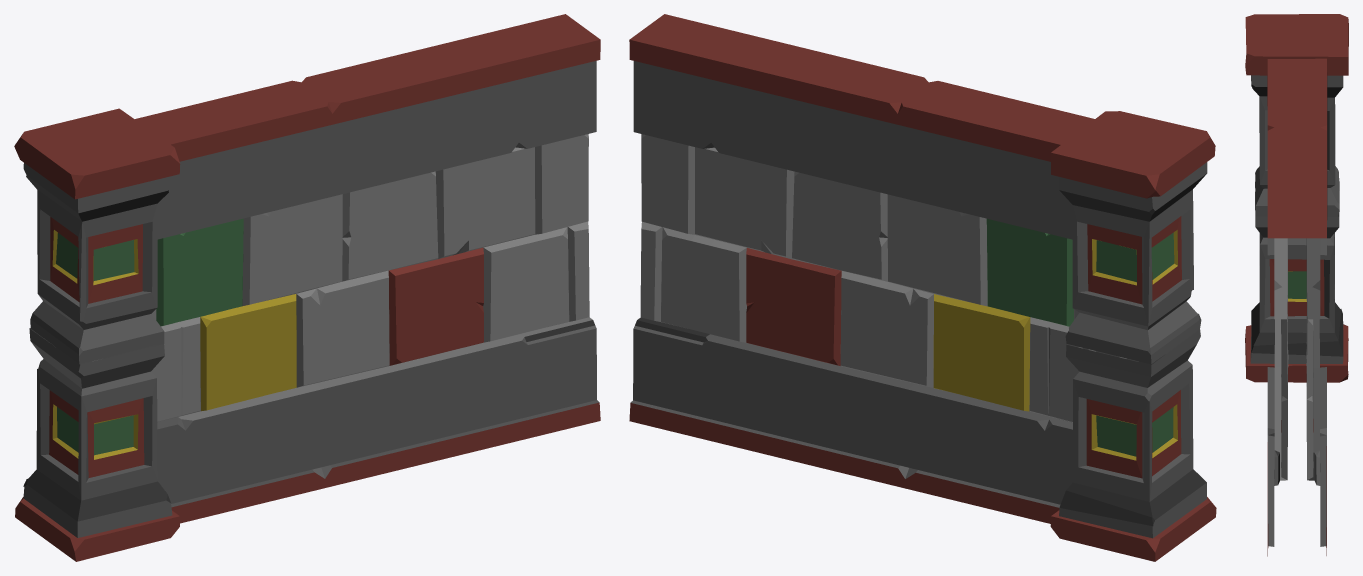
Rendered from wall section_color_01.glb.
3 renders of one model, left to right at view 1: azimuth 30°, elevation 25°; view 2: azimuth 150°, elevation 25°; view 3: azimuth 270°, elevation 25°, orthographic. The views are drawn at different scales.
Visible parts, largest first — view 1: Pillar 01.010; view 2: Pillar 01.010; view 3: Pillar 01.010.
Part boxes in pixels (bbox=[...]): Pillar 01.010: bbox=[14, 14, 600, 561]; Pillar 01.010: bbox=[629, 14, 1216, 561]; Pillar 01.010: bbox=[1245, 14, 1348, 556].
Bounding box in the file's own units: 4.44 × 3.03 × 0.8726.
